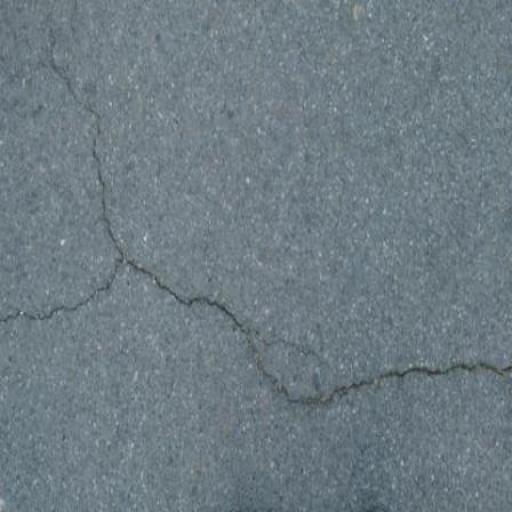spalling: (35, 18, 503, 417), (2, 251, 136, 347)
